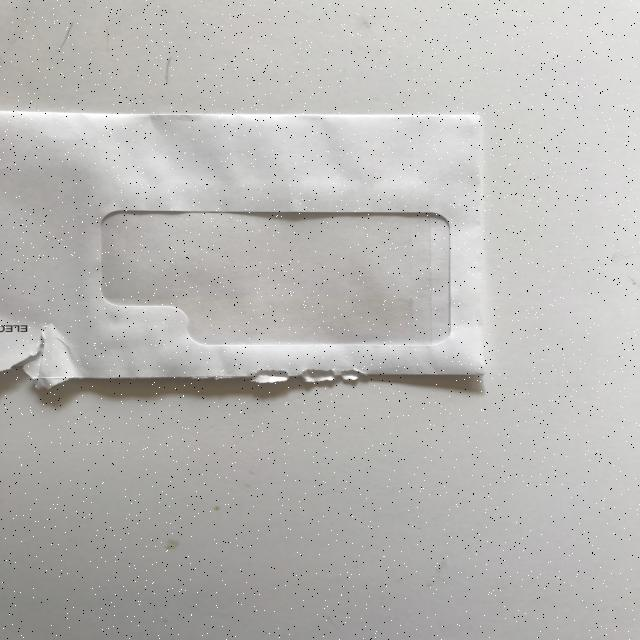paper: (1, 110, 487, 388)
